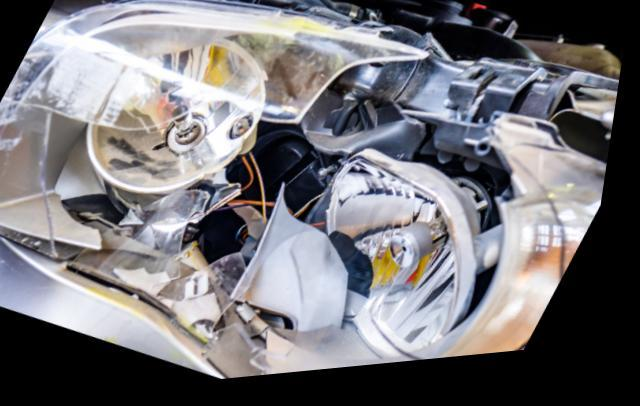lamp broken: (0, 0, 618, 384)
